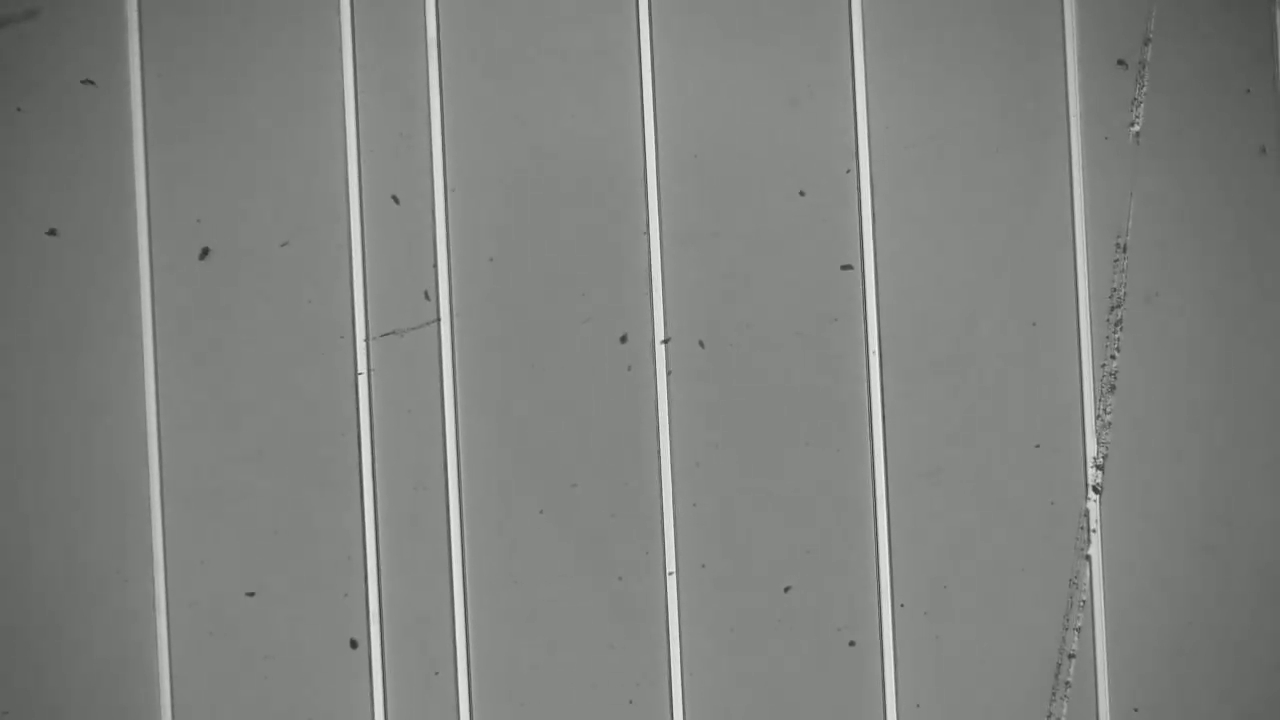scratch: (1046, 2, 1167, 713), (372, 318, 433, 340)
stains_enbedded: (645, 323, 677, 351)
